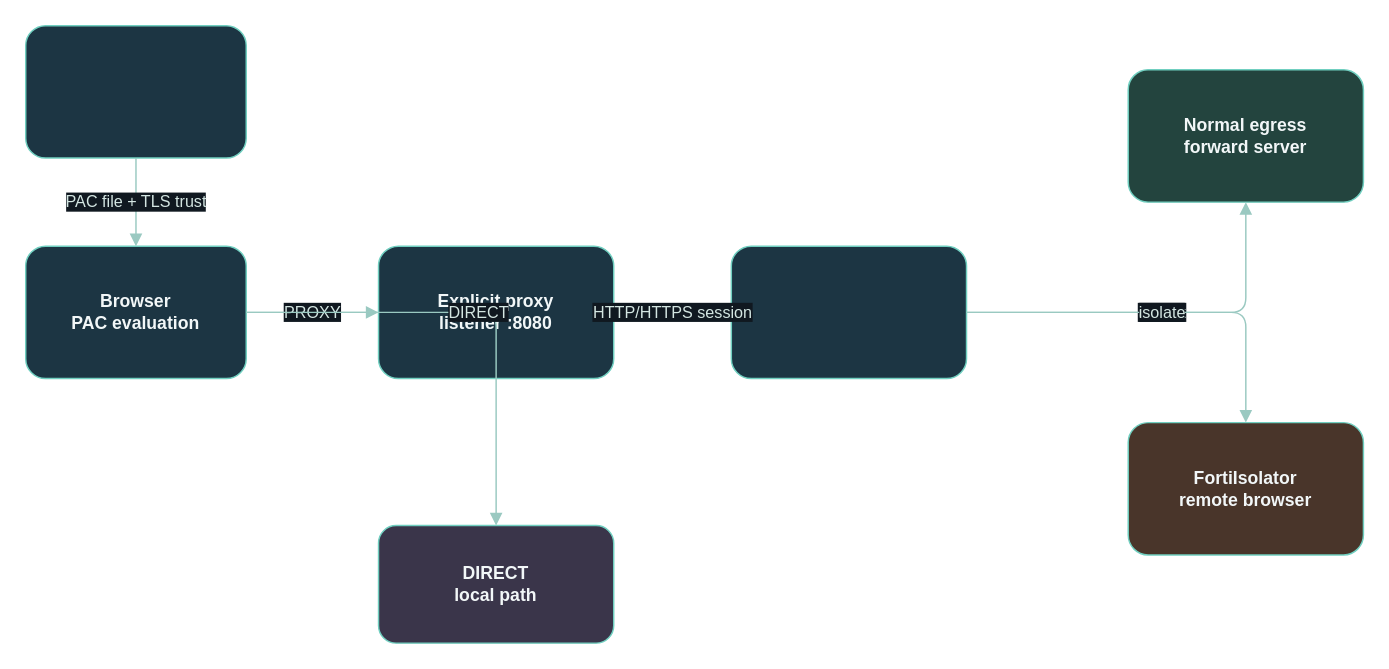
The diagram is 1389 pixels wide and 669 high, and some of its shapes have lost their labels. Each missing label, with the centre of its shape:
"FortiGate PAC HTTPS service" belongs at [135,91].
"Proxy policy match/action" belongs at [848,312].
